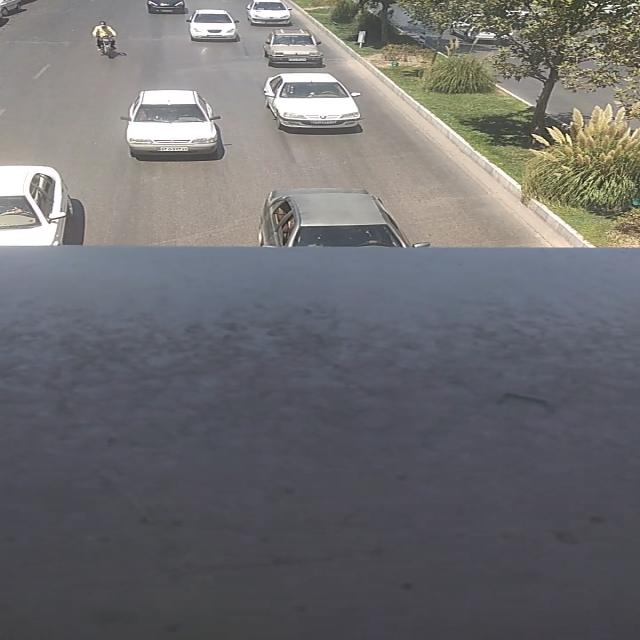car: (250, 189, 426, 249), (119, 91, 222, 157), (265, 74, 364, 132), (0, 166, 68, 244), (261, 29, 327, 65), (190, 9, 238, 42), (244, 3, 294, 25), (141, 2, 185, 15)
motor: (92, 22, 121, 58)
